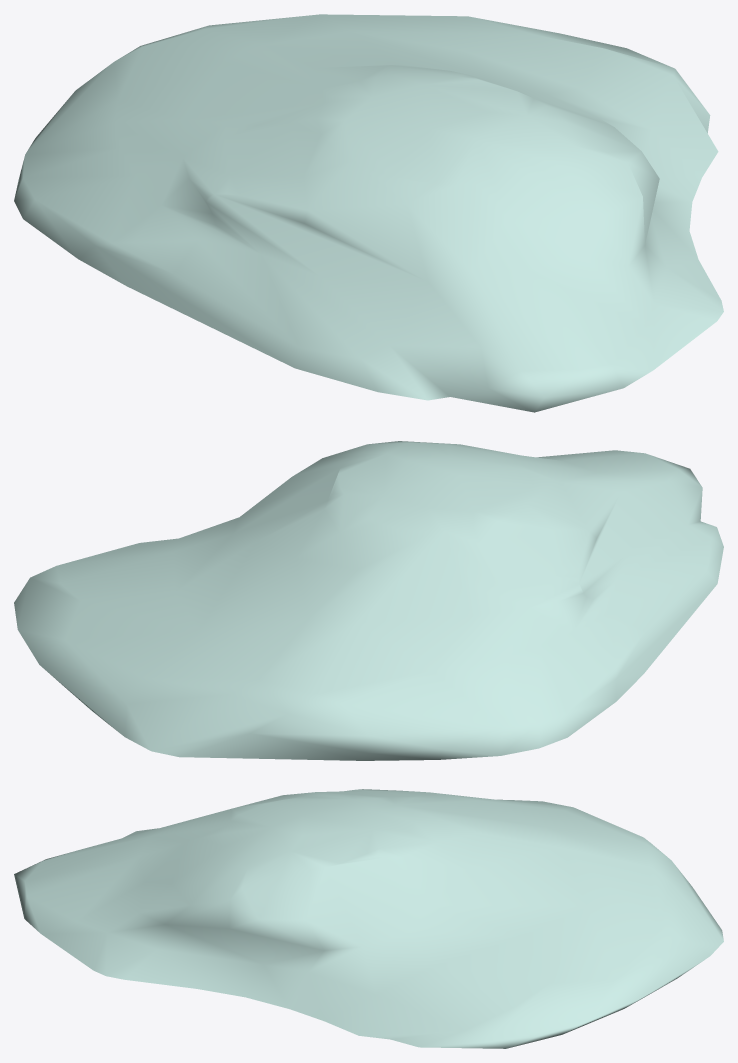
File: ICE_Small_low.fbx
3 views of the same model, one above another, from view 1: azimuth 30°, elevation 25°; view 2: azimuth 150°, elevation 25°; view 3: azimuth 270°, elevation 25° (orthographic). The views are drawn at different scales.
Visible parts, largest first — view 1: RockC_low1; view 2: RockC_low1; view 3: RockC_low1.
Part boxes in pixels (x1=…): RockC_low1: x1=14, y1=14, x2=723, y2=412; RockC_low1: x1=14, y1=441, x2=723, y2=760; RockC_low1: x1=14, y1=789, x2=723, y2=1048.
Bounding box in the file's own units: 414 × 82.43 × 528.
